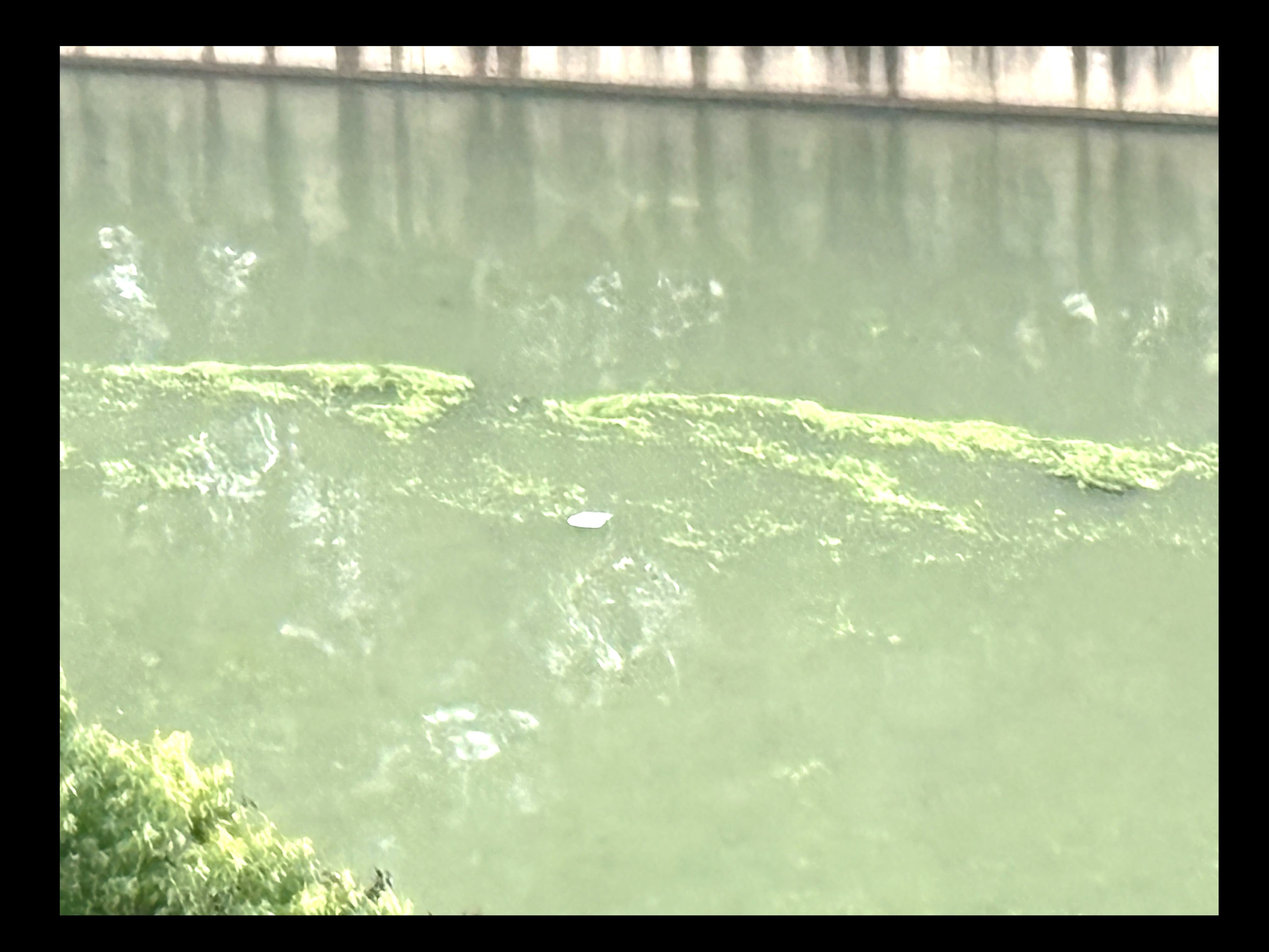Other: (558, 401, 1169, 505), (88, 362, 458, 434)
Plastic wastes: (563, 510, 619, 537)
